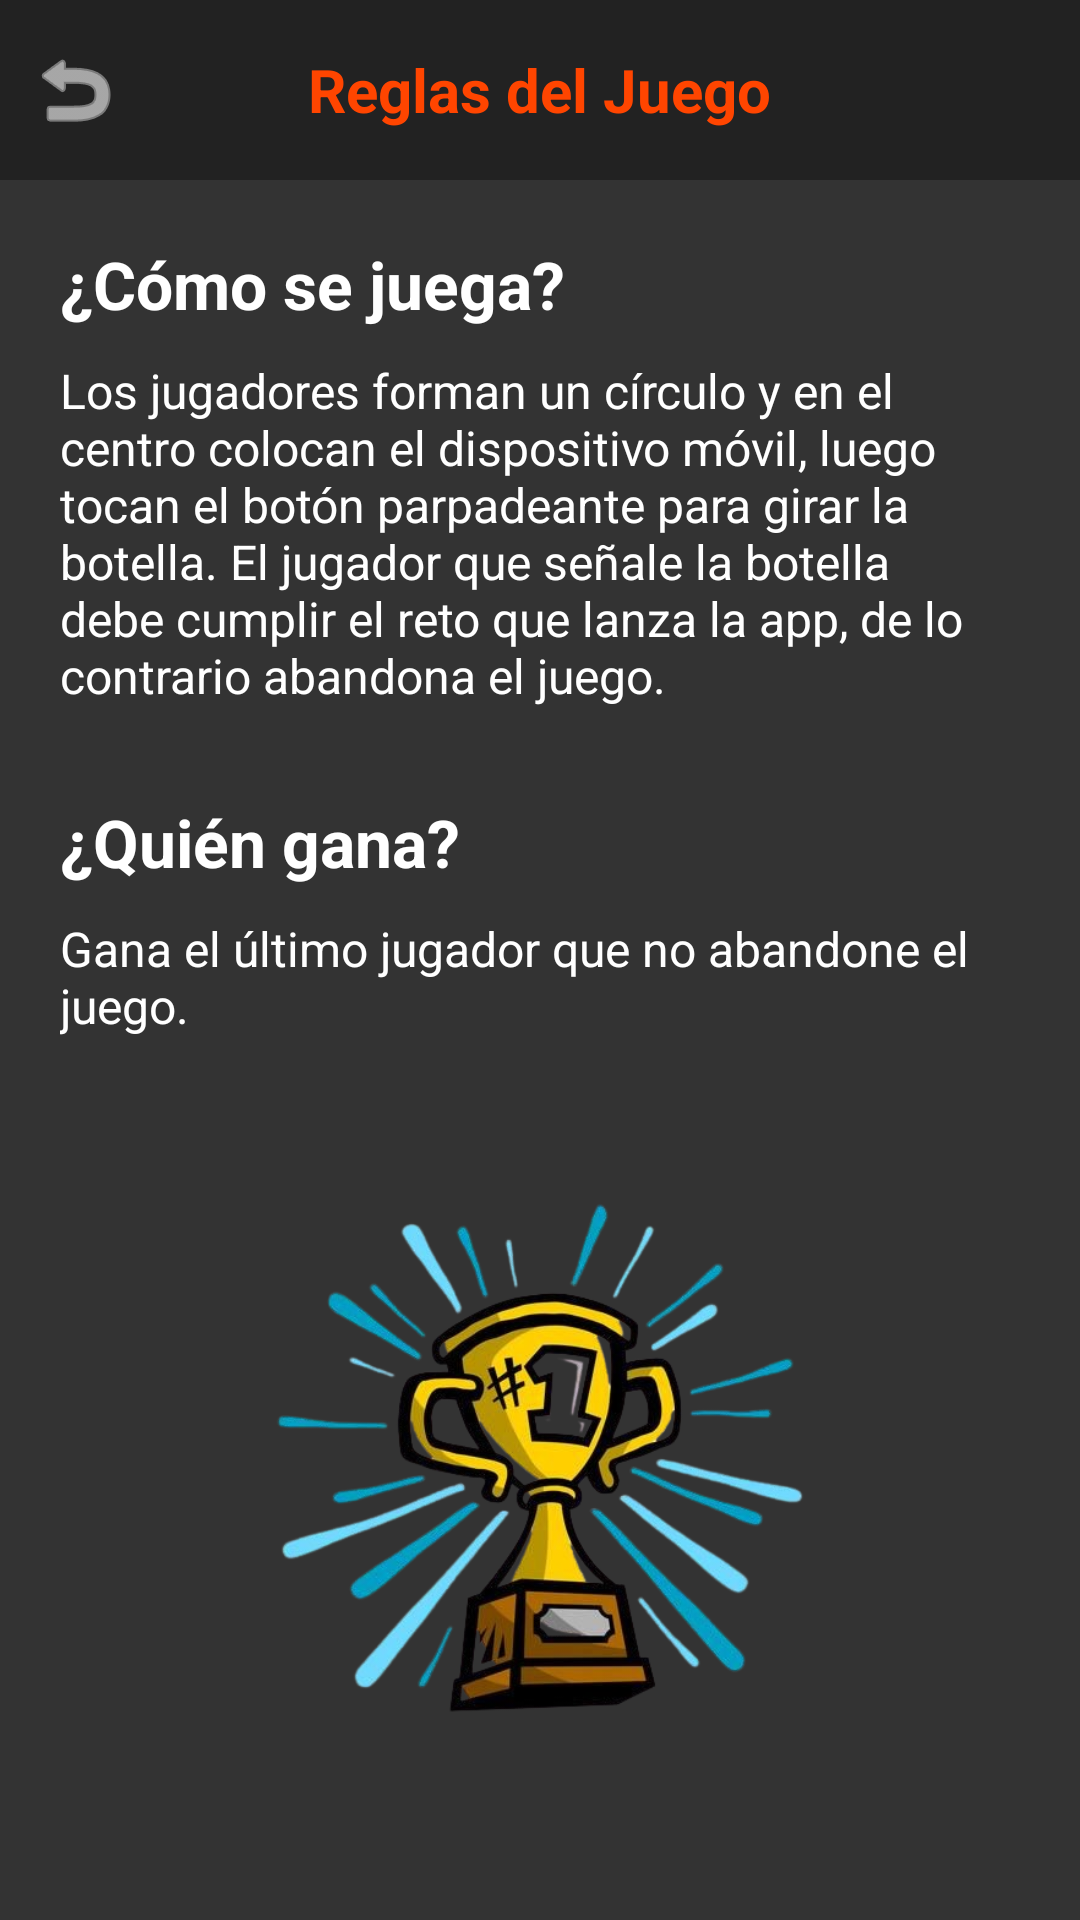

Where to tap for icons on this 1080w x 1920h app screen, as point (x, y):
revert: point (76, 90)
